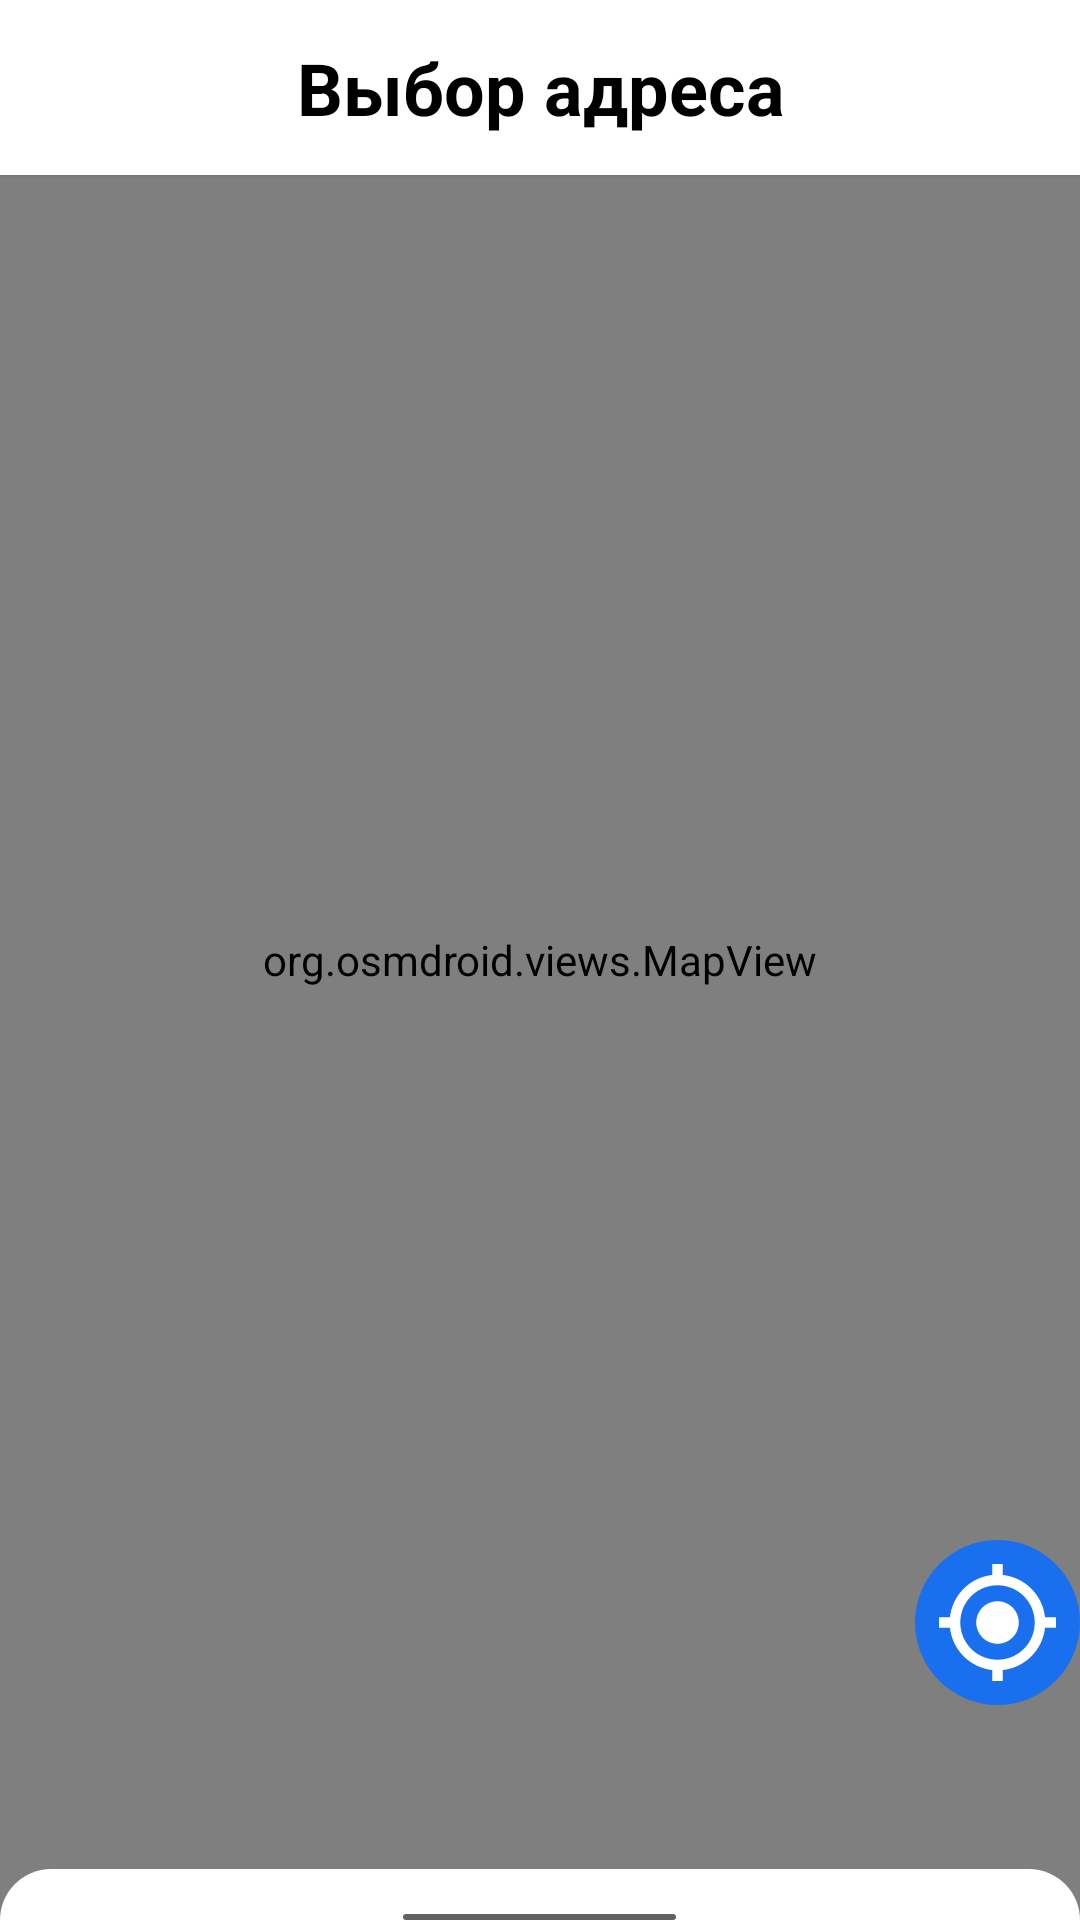

Where to tap for icons on this 1080px×1920px app screen, as (x,y):
get my location: (997,1622)
